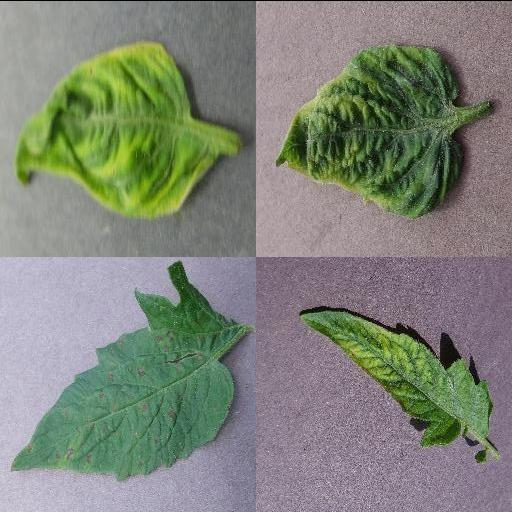Mosaic Virus: (297, 306, 491, 448)
Septoria: (8, 260, 234, 478)
Yellow Leaf Curl Virus: (13, 40, 219, 215), (272, 42, 466, 218)
